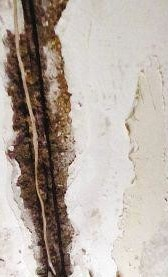Corrosion: (1, 1, 77, 277)
Exposed reinforcement: (30, 1, 67, 277)
